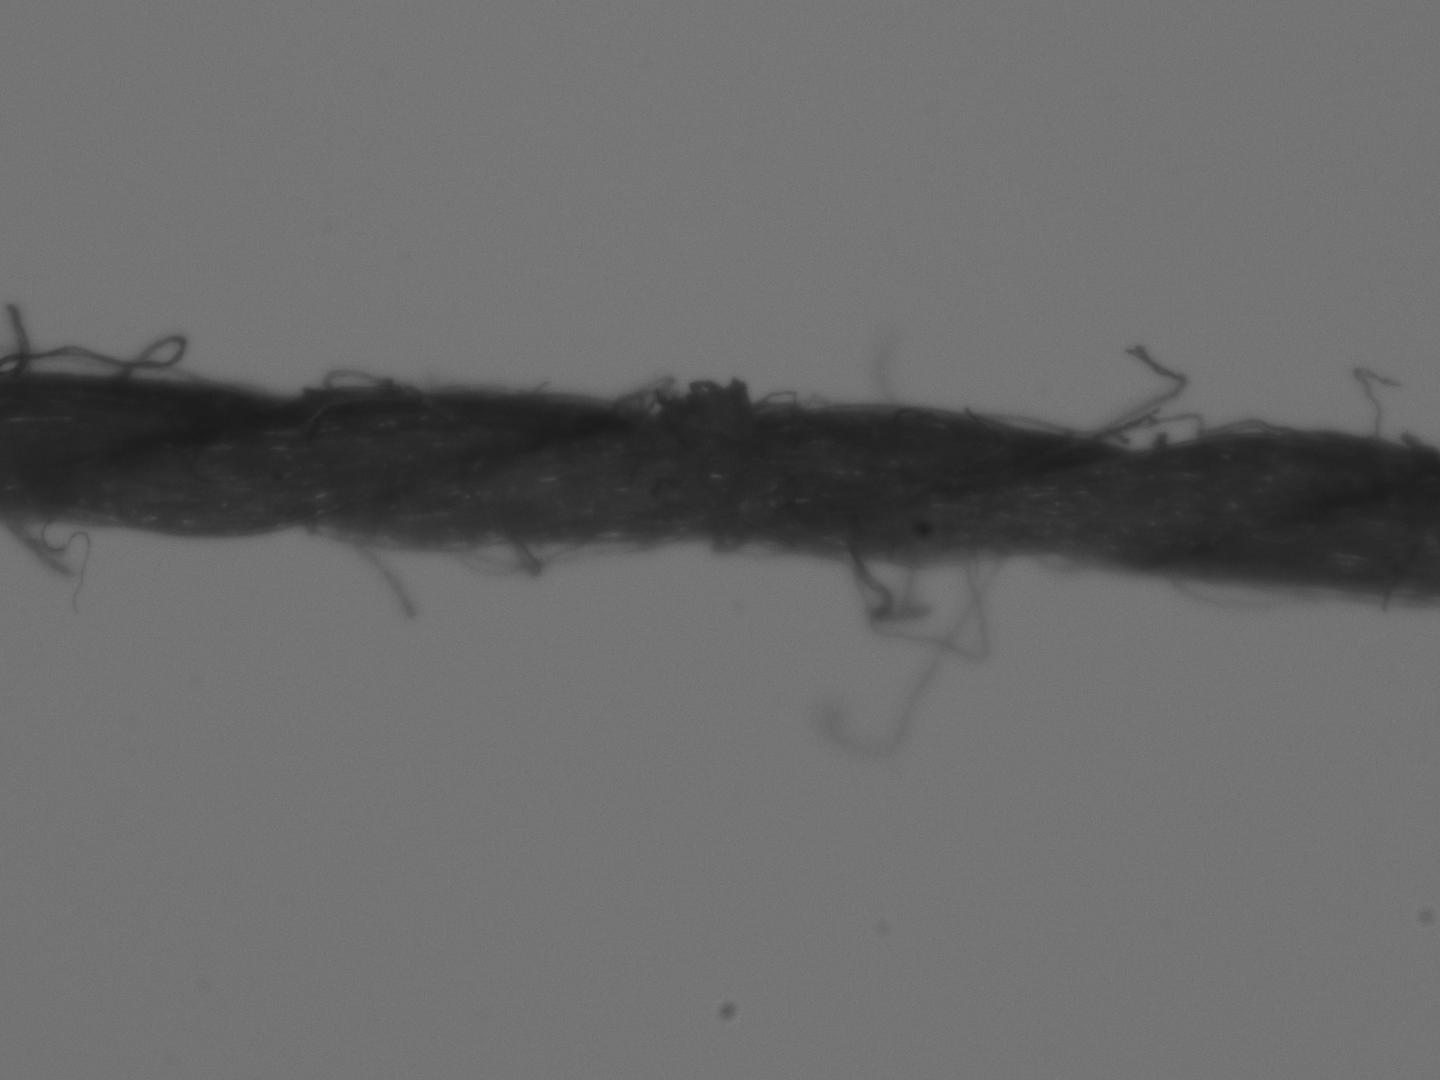loop_fiber: (710, 537, 994, 660), (0, 337, 266, 393), (440, 535, 685, 576), (1157, 573, 1345, 611), (1070, 414, 1206, 454), (617, 371, 751, 404), (295, 366, 405, 393), (1039, 548, 1109, 575), (754, 386, 802, 414)
protruding_fiber: (821, 548, 1007, 761), (1104, 340, 1191, 445), (345, 532, 423, 625), (41, 515, 98, 625), (1354, 361, 1405, 434), (6, 515, 66, 573), (875, 314, 899, 404), (7, 298, 32, 374)
